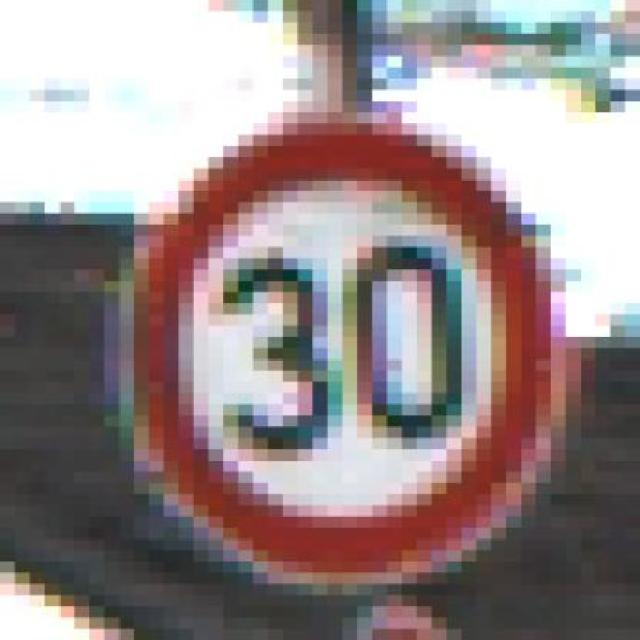Speed Limit 30 KMPh: (74, 67, 626, 607)
